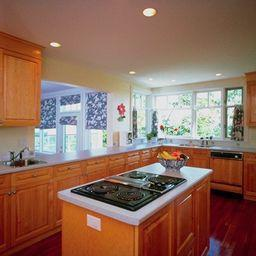Electrodomestico: (74, 169, 185, 214), (212, 154, 244, 193)
Lavaplatos: (10, 139, 47, 169)
